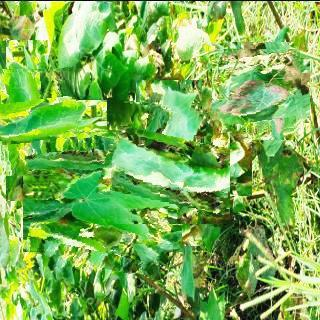blight: (219, 48, 303, 132)
curl: (31, 131, 173, 272), (108, 101, 230, 223), (0, 68, 79, 173)
